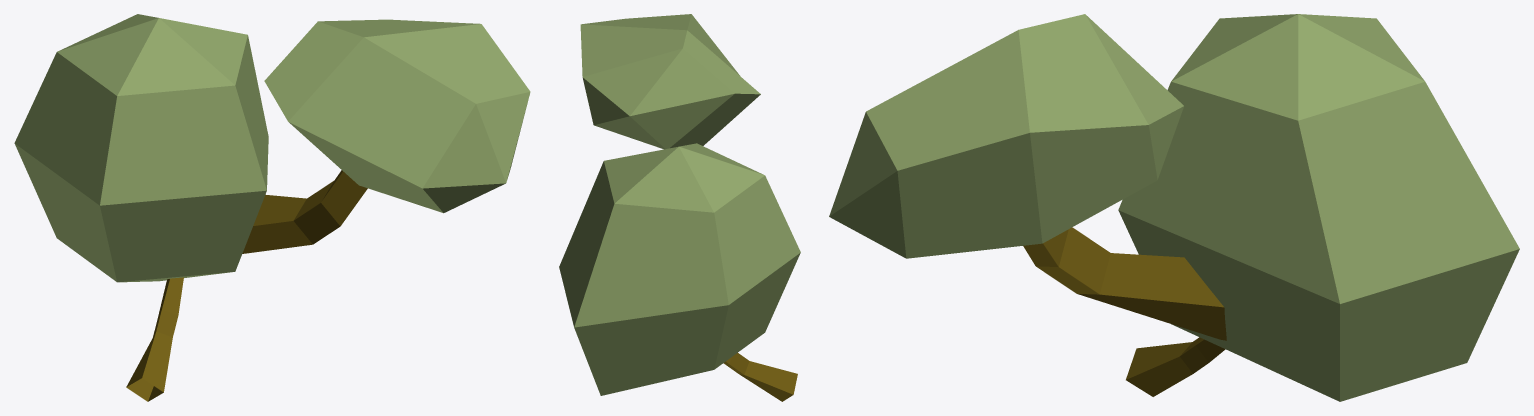
Rendered from Bush_01.fbx.
3 renders of one model, left to right at view 1: azimuth 30°, elevation 25°; view 2: azimuth 150°, elevation 25°; view 3: azimuth 270°, elevation 25°, orthographic. The views are drawn at different scales.
Parts seen in each view (by area): view 1: pCylinder22; view 2: pCylinder22; view 3: pCylinder22.
Boxes of the visible parts, bbox=[...] form: pCylinder22: bbox=[14, 14, 530, 401]; pCylinder22: bbox=[559, 14, 800, 401]; pCylinder22: bbox=[829, 14, 1519, 401].
Size of the model in its own units: 171 by 185 by 244.
